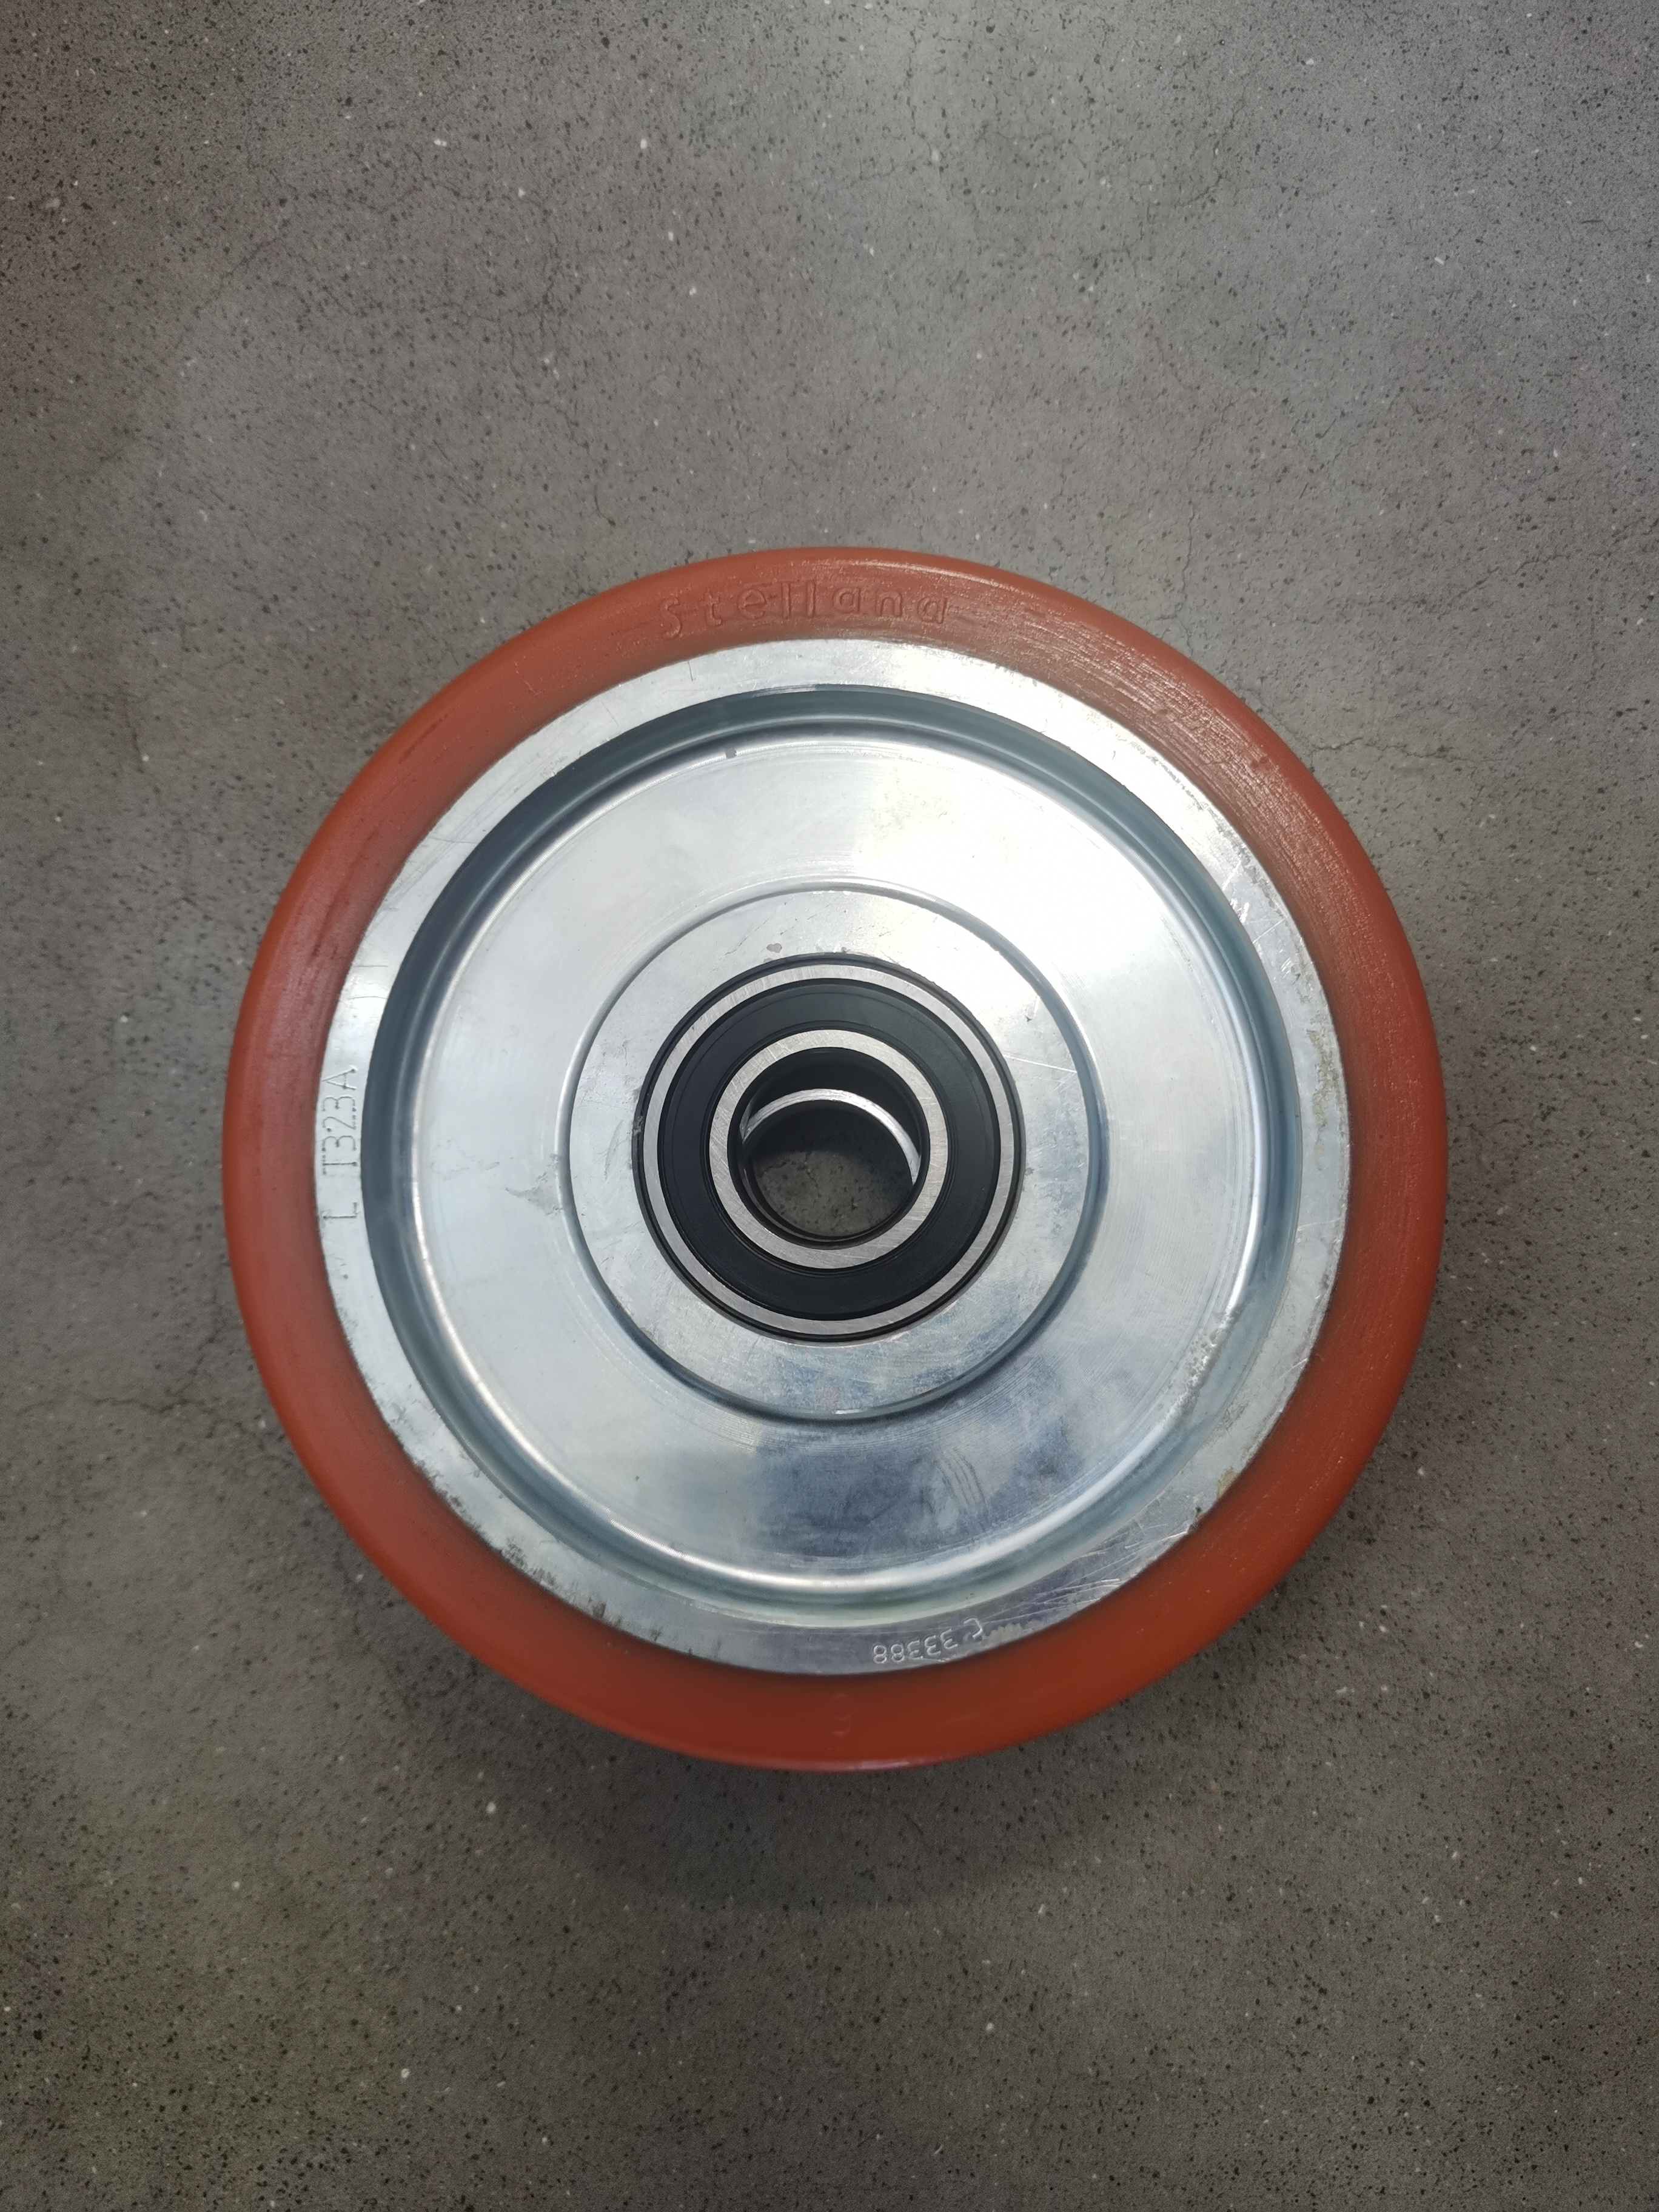good_wheel: (216, 456, 1432, 1745)
